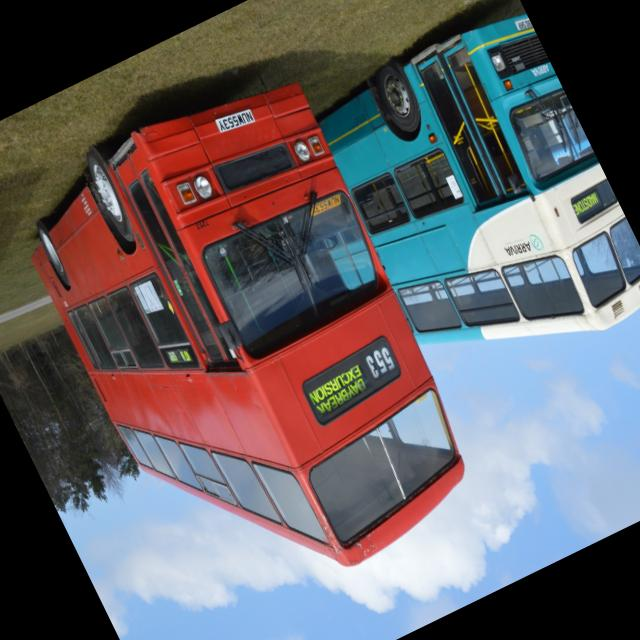bus: (0, 48, 501, 637), (265, 0, 640, 423)
